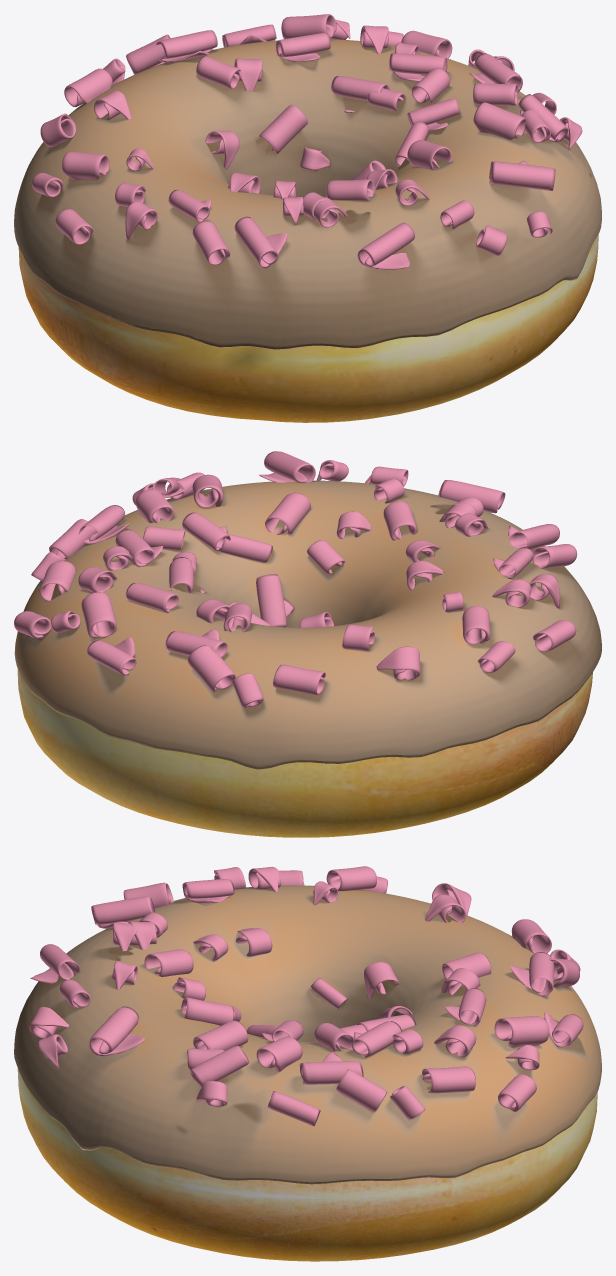
The model's file is light strawberry curls.glb.
The picture shows the model from 3 angles, top to bottom: view 1: azimuth 30°, elevation 25°; view 2: azimuth 150°, elevation 25°; view 3: azimuth 270°, elevation 25°; orthographic projection. The views are drawn at different scales.
Parts seen in each view (by area): view 1: coffee.001, light, choco & straw curls, Torus; view 2: light, coffee.001, choco & straw curls, Torus; view 3: light, coffee.001, choco & straw curls, Torus.
Part boxes in pixels (<box>): coffee.001: <box>14,39,601,349</box>; light: <box>15,39,601,349</box>; choco & straw curls: <box>32,14,582,269</box>; Torus: <box>18,234,598,422</box>; light: <box>15,481,585,769</box>; coffee.001: <box>14,480,601,769</box>; choco & straw curls: <box>14,451,577,707</box>; Torus: <box>17,669,592,837</box>; light: <box>48,885,601,1184</box>; coffee.001: <box>14,885,601,1184</box>; choco & straw curls: <box>29,866,583,1126</box>; Torus: <box>17,1068,597,1261</box>.
Bounding box in the file's own units: 0.1989 × 0.0804 × 0.1972.
4 materials, 2 textured.
